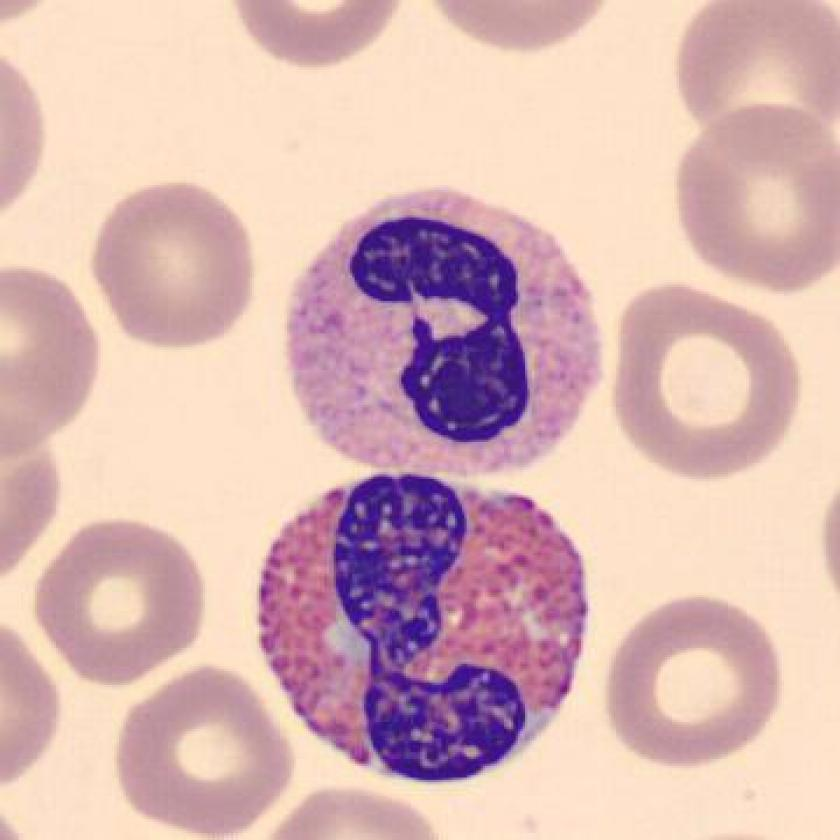eosinophil: (241, 466, 608, 797)
